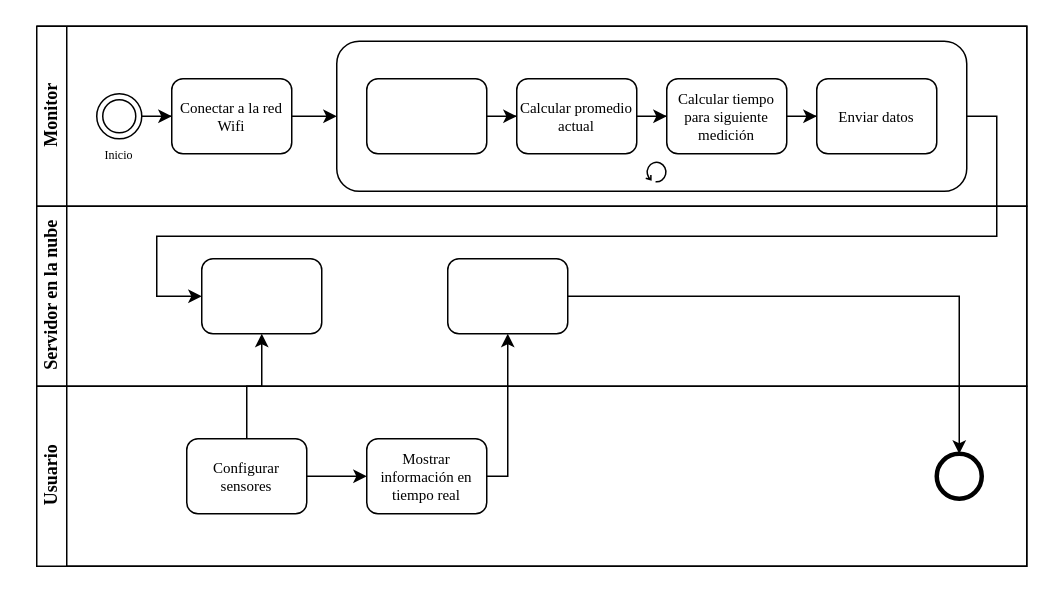
Image size: 1053x593. Some labels were removed from this diagram. The centre of each missing label's shape, as x and y in pixels:
Almacenar datos en base de datos: the point at 261,295
Capturar y mostrar datos en pantalla: the point at 426,115
Fin: the point at 958,475
Responder consulta con datos: the point at 507,295
